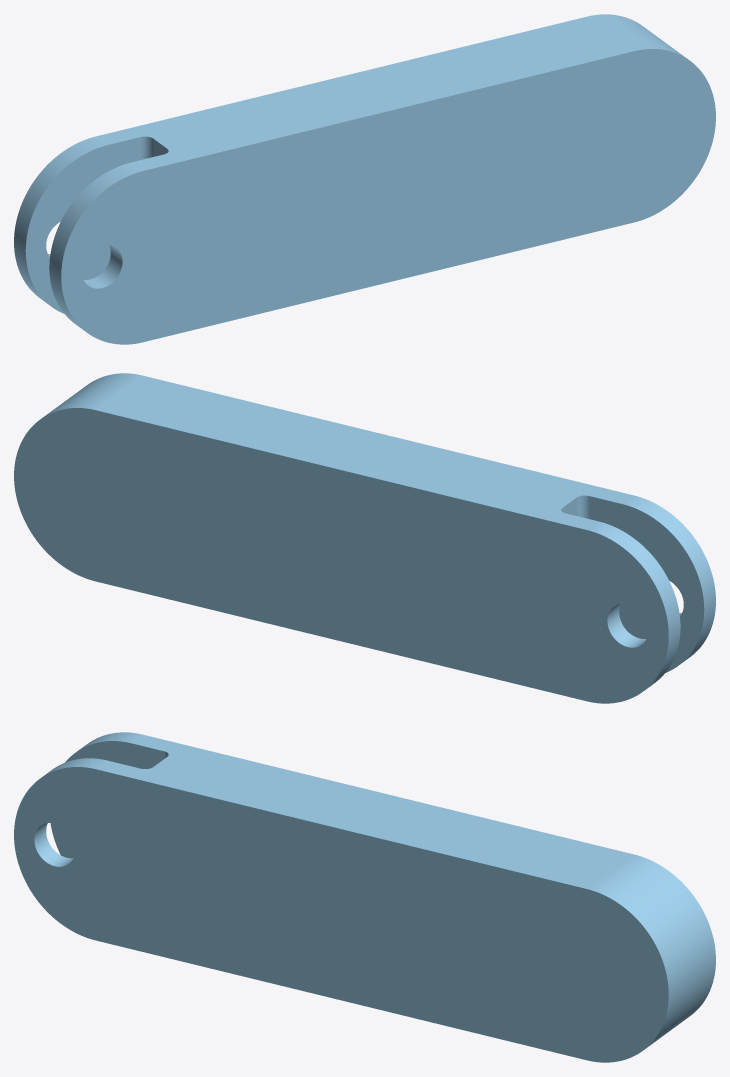
3 renders of one model, top to bottom at view 1: azimuth 30°, elevation 25°; view 2: azimuth 150°, elevation 25°; view 3: azimuth 330°, elevation 25°, orthographic.
Parts seen in each view (by area): view 1: 5eb308c489d5b714df0f3fb2; view 2: 5eb308c489d5b714df0f3fb2; view 3: 5eb308c489d5b714df0f3fb2.
Boxes of the visible parts, <box> form: 5eb308c489d5b714df0f3fb2: <box>14,14,715,344</box>; 5eb308c489d5b714df0f3fb2: <box>14,373,715,703</box>; 5eb308c489d5b714df0f3fb2: <box>14,732,715,1062</box>.
Size of the model in its own units: 0.8 by 0.1 by 0.2.
